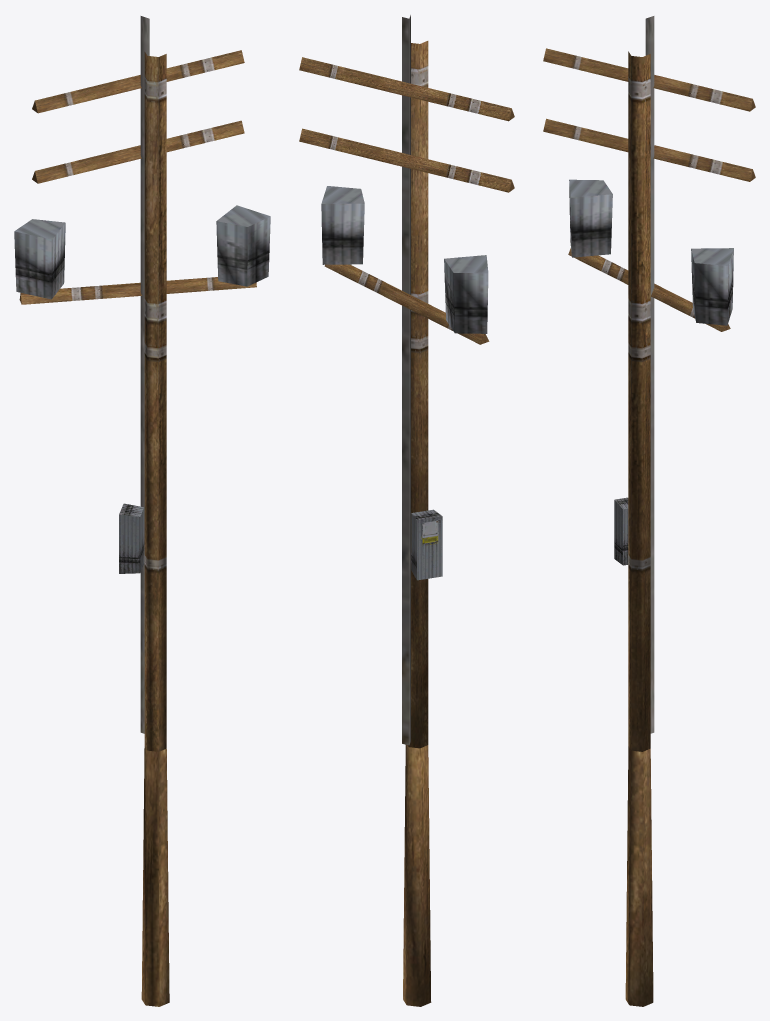
File: Prop_Pole01_lod2.glb
3 renders of one model, left to right at view 1: azimuth 30°, elevation 25°; view 2: azimuth 150°, elevation 25°; view 3: azimuth 330°, elevation 25°, orthographic.
Parts seen in each view (by area): view 1: xinshou_pole_01_lod2; view 2: xinshou_pole_01_lod2; view 3: xinshou_pole_01_lod2.
Part boxes in pixels (x1,y1,x2,y2): xinshou_pole_01_lod2: (14, 16, 270, 1006); xinshou_pole_01_lod2: (299, 15, 514, 1006); xinshou_pole_01_lod2: (543, 16, 755, 1006).
Size of the model in its own units: 4.83 by 21.59 by 2.48.
1 material, 1 textured.
